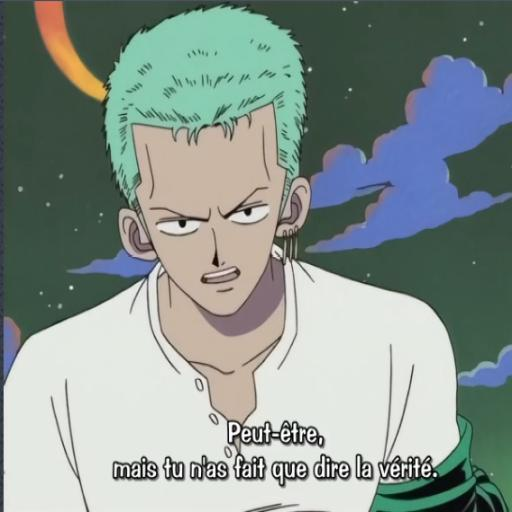Zoro: (4, 0, 488, 512)
